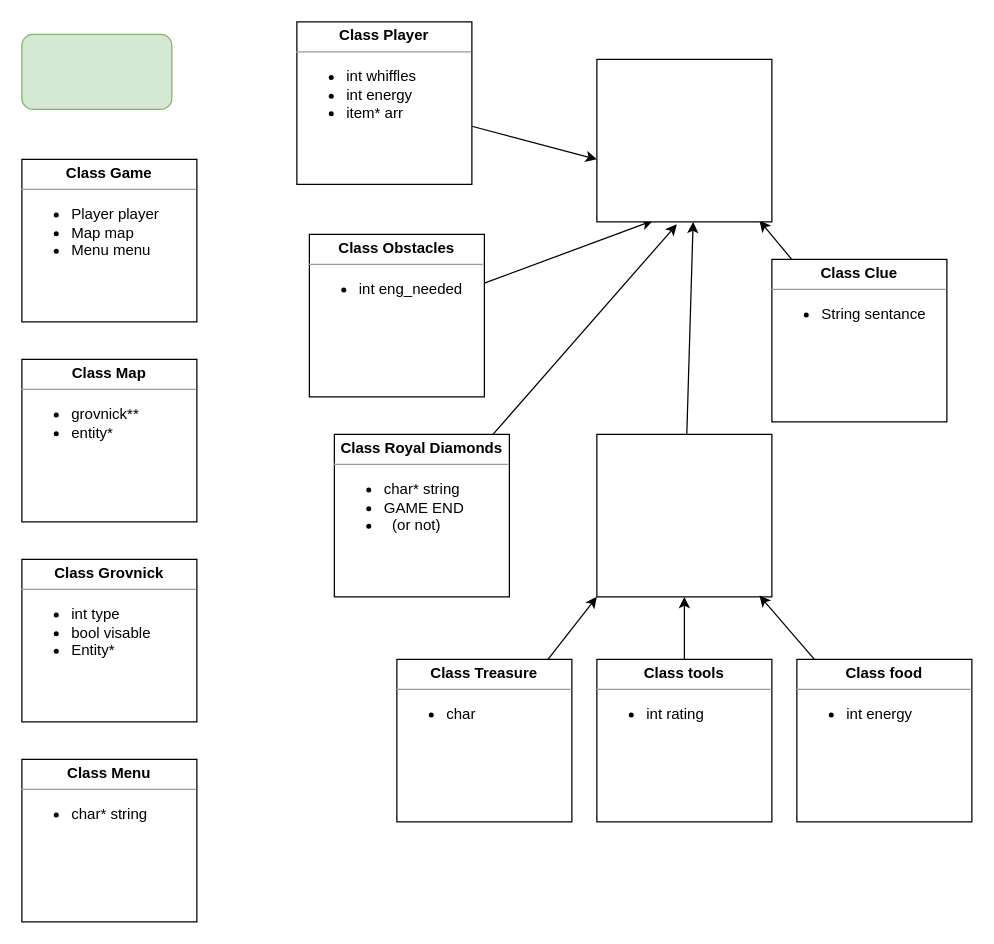
This 994x944 diagram has some shape labels left out. The box of each missing label's shape, as (x1, y1, x2, y2) in pixels:
Class Entity String name int* loc char type: (596, 58, 772, 222)
Class Item int whiffles int isOwned: (596, 433, 772, 597)
Rough Draft UML: (21, 33, 172, 109)
